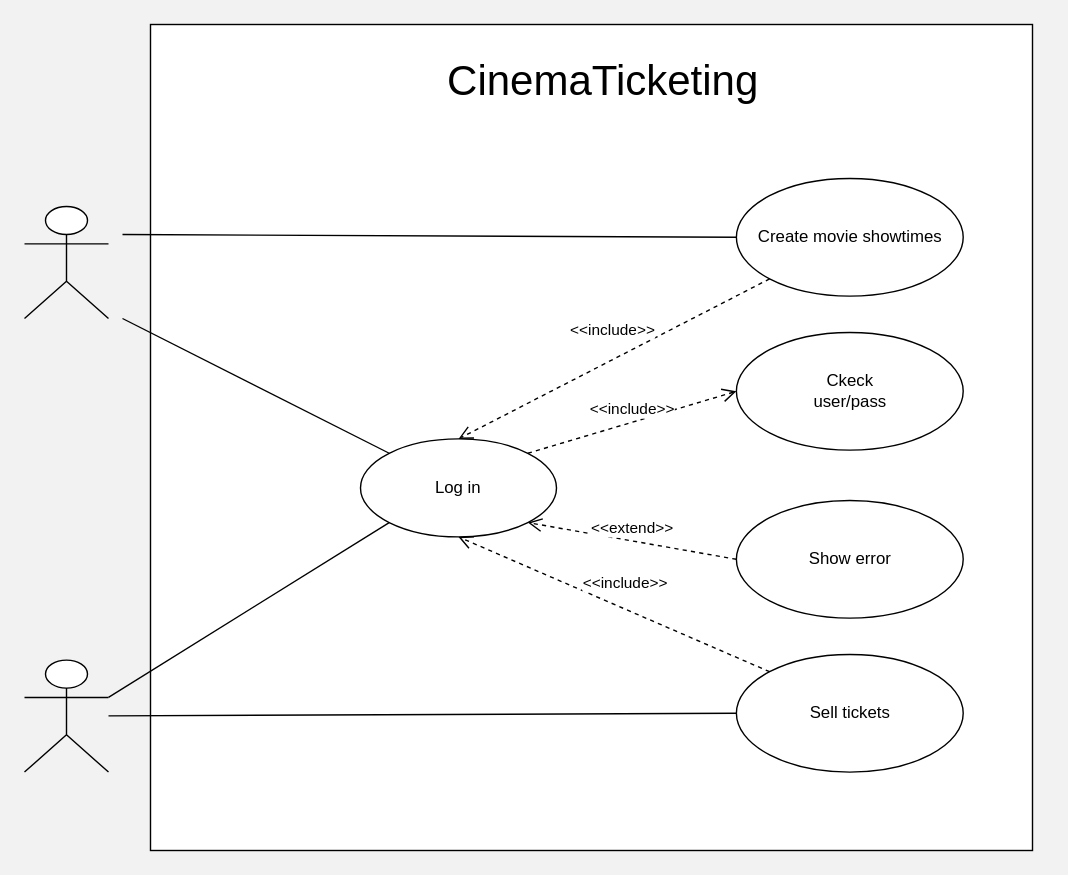
This 1068x875 diagram has some shape labels left out. Here are the shapes that lost their labels. From the top down, the centre of each, then its label:
the point at 65,261: Manager
the point at 65,715: Staff
